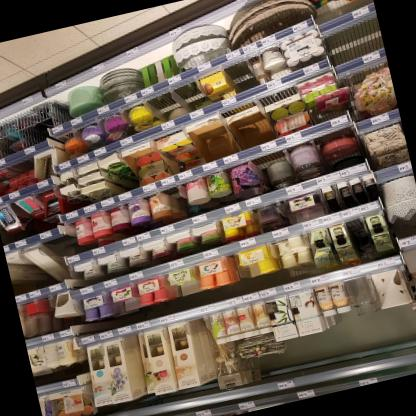empty_space: (324, 26, 384, 61), (194, 123, 236, 161), (232, 115, 274, 149), (145, 93, 181, 124), (222, 63, 256, 94), (45, 233, 77, 261), (174, 84, 206, 111), (0, 158, 32, 178)
